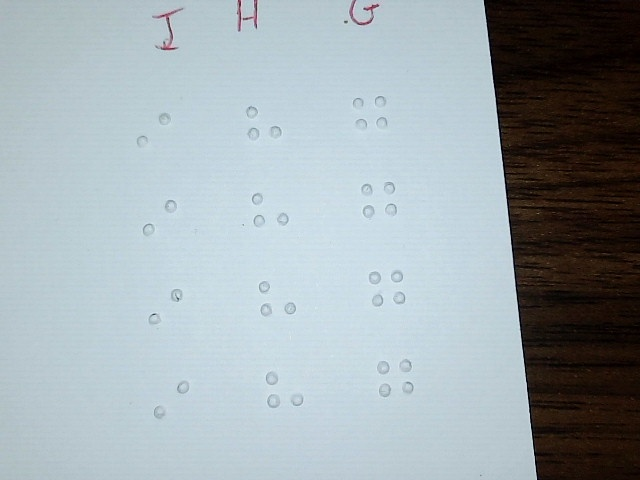G: (351, 84, 388, 155), (361, 172, 398, 243), (368, 259, 405, 330), (376, 347, 413, 418)
H: (265, 362, 305, 430), (245, 94, 282, 165), (252, 183, 289, 254), (258, 269, 296, 336)
I: (136, 101, 173, 172), (141, 187, 178, 258), (153, 367, 190, 438)
